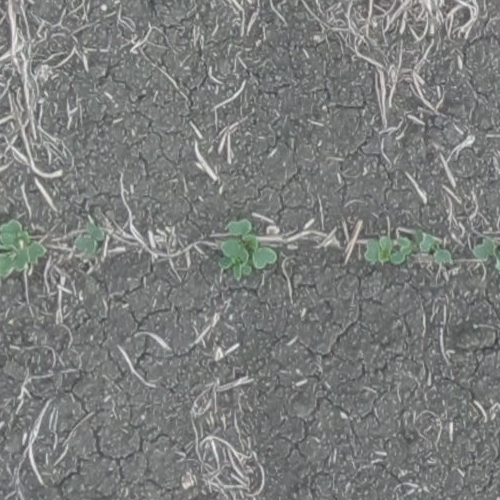clumped: (365, 228, 453, 269), (0, 222, 44, 277), (474, 232, 499, 281)
isolated: (223, 220, 278, 272), (77, 221, 104, 254)
